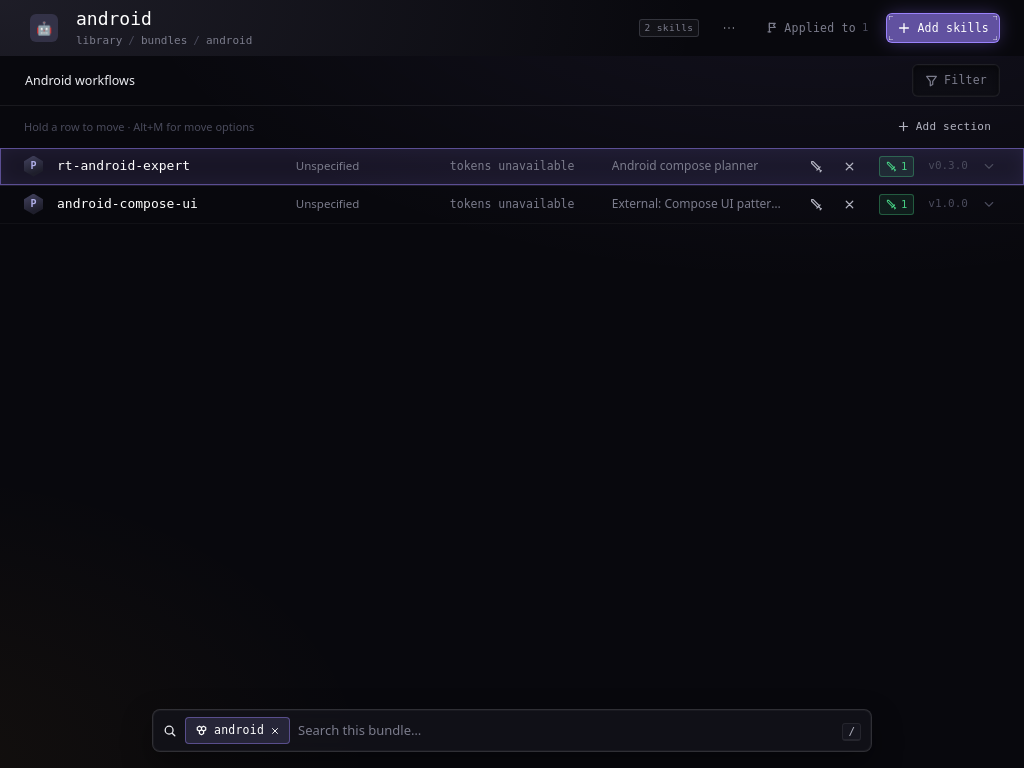
Library bundle mode — case 3: icon › opens the icon picker from the overflow menu, not just the glyph
This screenshot has width=1024, height=768.
Click the button with test id "overflow-trigger" at (729, 28), box [711,14,747,42]
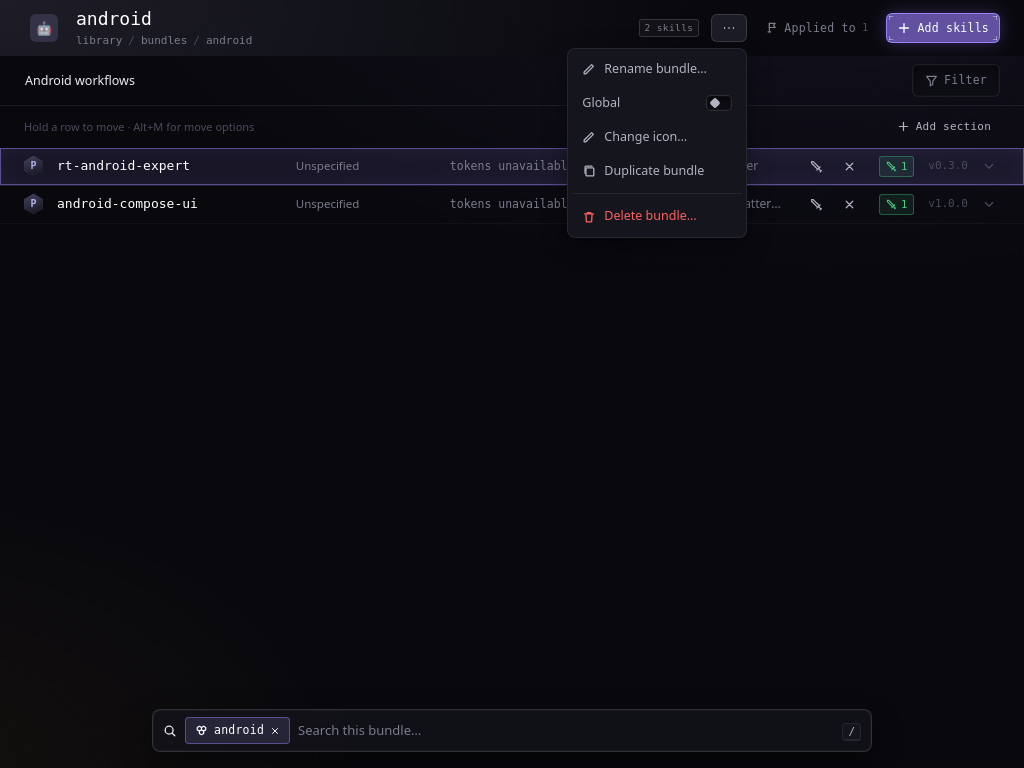
Click the menu item "Change icon…" at (657, 137), box [572,121,742,153]
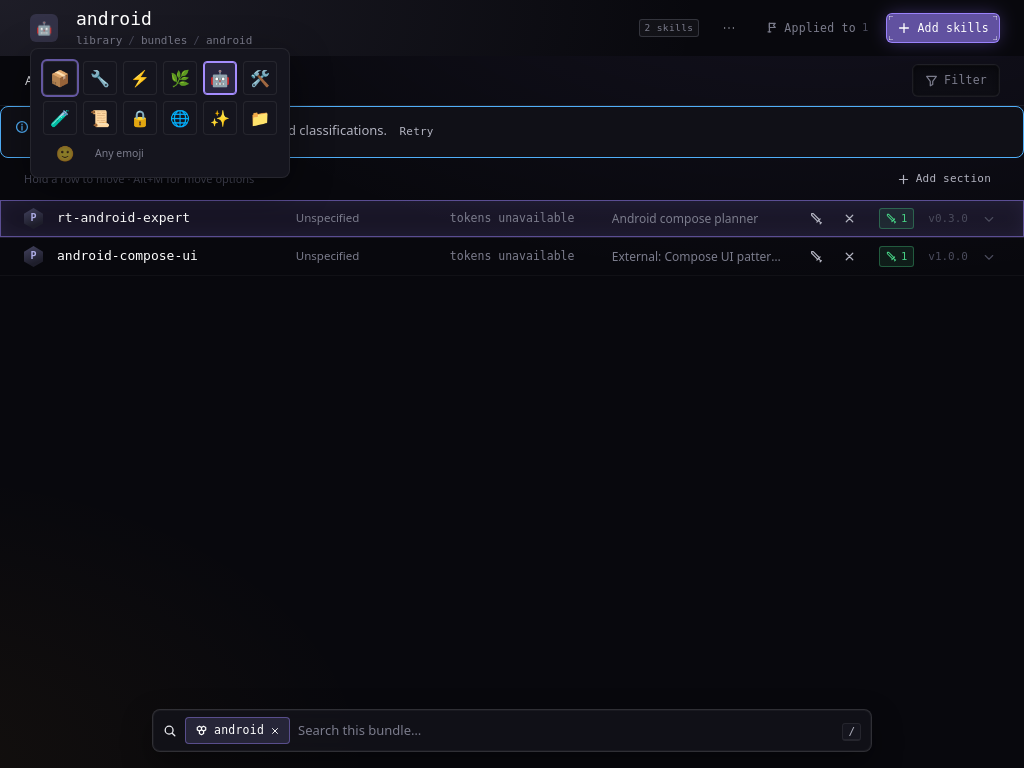
Now the dialog named "Change android's icon" is shown, box [30,48,290,178]
Now the button named "Use 🔧" is shown, box [83,61,117,95]
